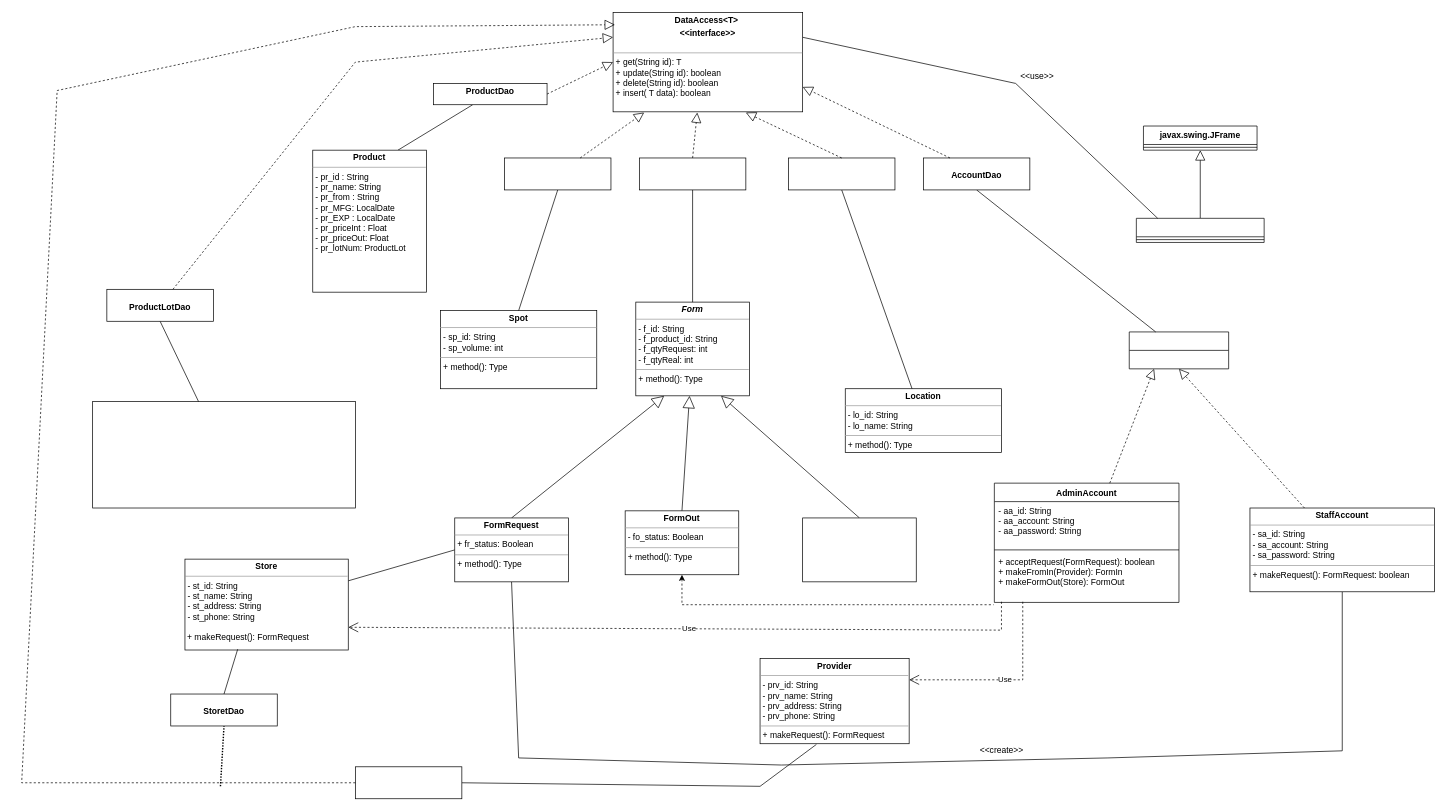
Image size: 1447x812. Some labels were removed from this diagram. Here are the shapes that lost their labels. From the top down, the centre of each, then its label:
At point (557, 173): "SpotDao".
At point (692, 173): "FormDao".
At point (841, 173): "LocationDao".
At point (1200, 230): "App".
At point (1179, 350): "Account".
At point (223, 454): "ProductLot - pl_lotNumber: String".
At point (859, 549): "FormIn -fi_status: Boolean + method(): Type".
At point (408, 782): "ProviderDao".
